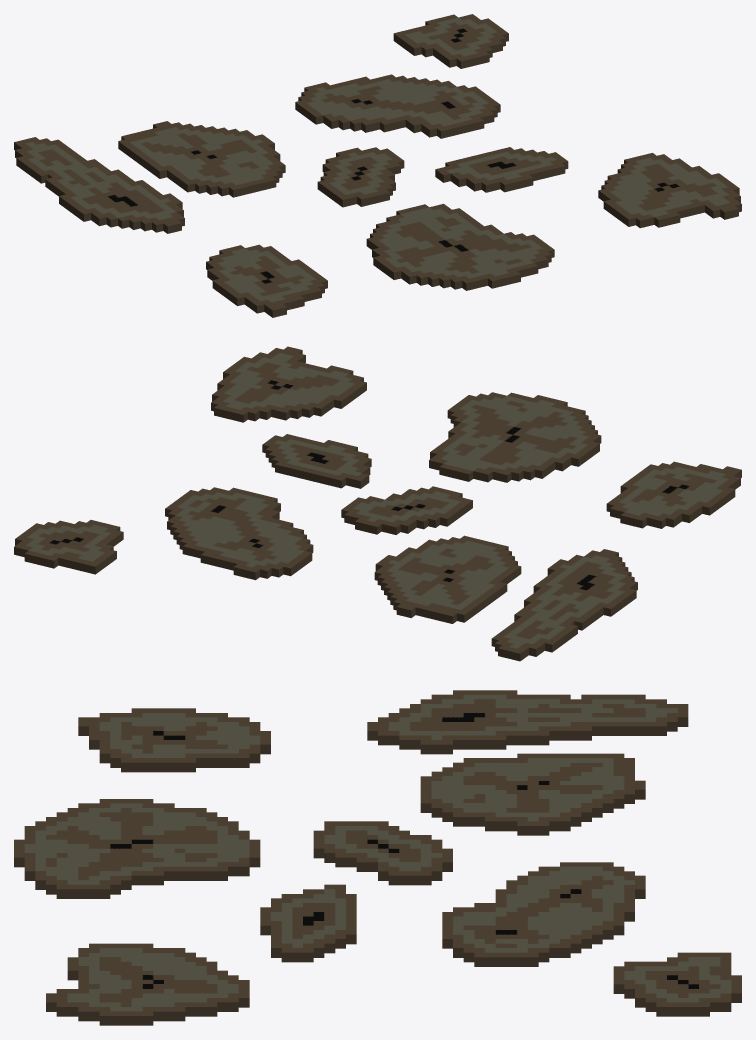
File: ground_hole_5.glb
3 views of the same model, one above another, from view 1: azimuth 30°, elevation 25°; view 2: azimuth 150°, elevation 25°; view 3: azimuth 270°, elevation 25° (orthographic). The views are drawn at different scales.
Visible parts, largest first — view 1: ground_hole_5; view 2: ground_hole_5; view 3: ground_hole_5.
Part boxes in pixels (x1,y1,x2,y2): ground_hole_5: [14, 14, 741, 317]; ground_hole_5: [14, 346, 741, 661]; ground_hole_5: [14, 690, 741, 1025].
Bounding box in the file's own units: 7.2 × 0.1 × 6.8.
1 material, 1 textured.
